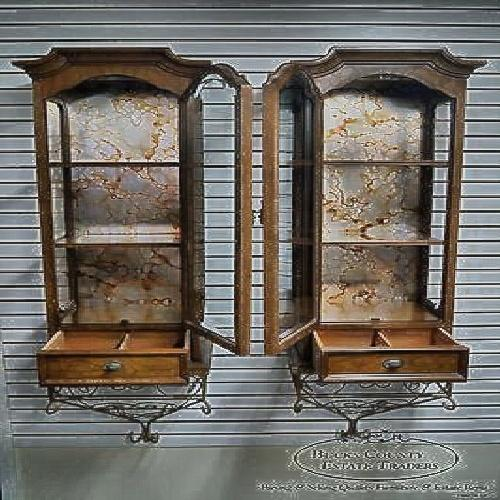cabinet: (258, 49, 486, 424), (37, 40, 212, 402)
